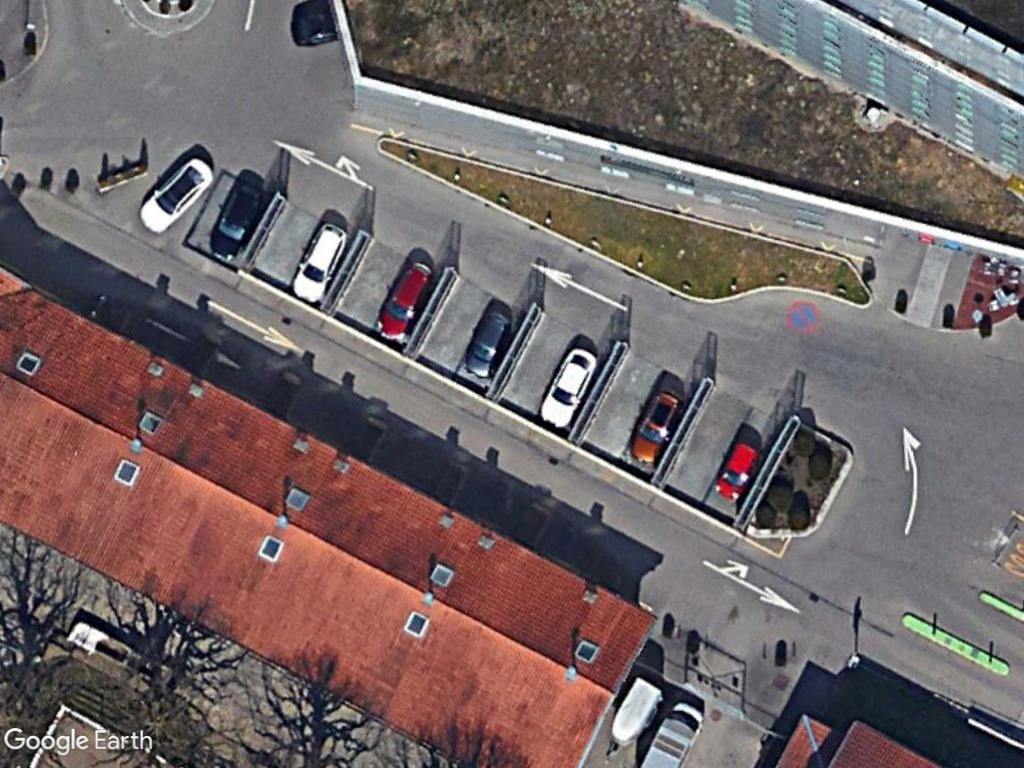car: (138, 156, 216, 236), (373, 259, 436, 343), (537, 344, 598, 430), (290, 219, 349, 306), (206, 185, 264, 266), (629, 387, 684, 467), (713, 441, 762, 504)
